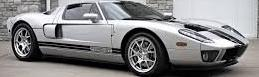Cars: (9, 2, 249, 76)
